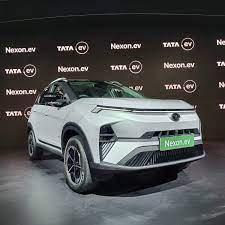Tata Nexon: (23, 76, 206, 197)
